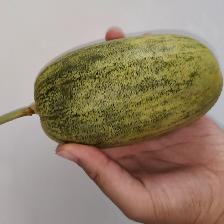gua: (67, 57, 191, 120)
